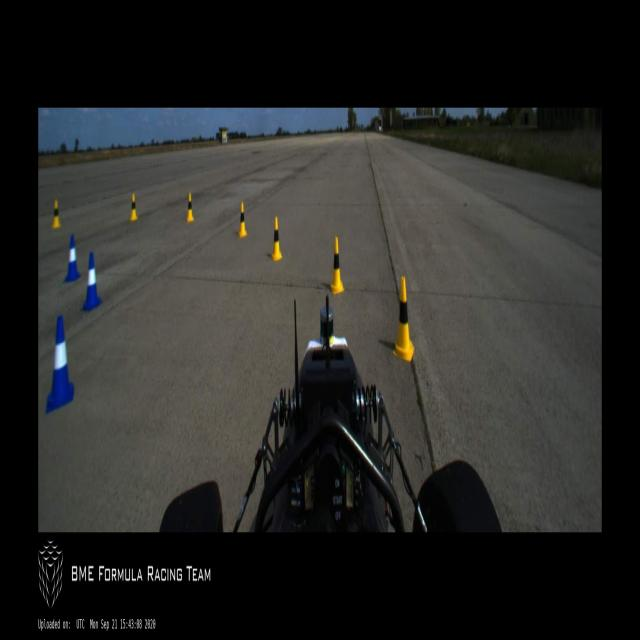blue_cone: (46, 316, 74, 415), (80, 252, 102, 311), (64, 235, 80, 283)
yellow_cone: (393, 277, 414, 361), (330, 236, 344, 295), (270, 217, 282, 261), (237, 202, 247, 238), (52, 200, 60, 228), (186, 192, 193, 223), (130, 194, 138, 221)
